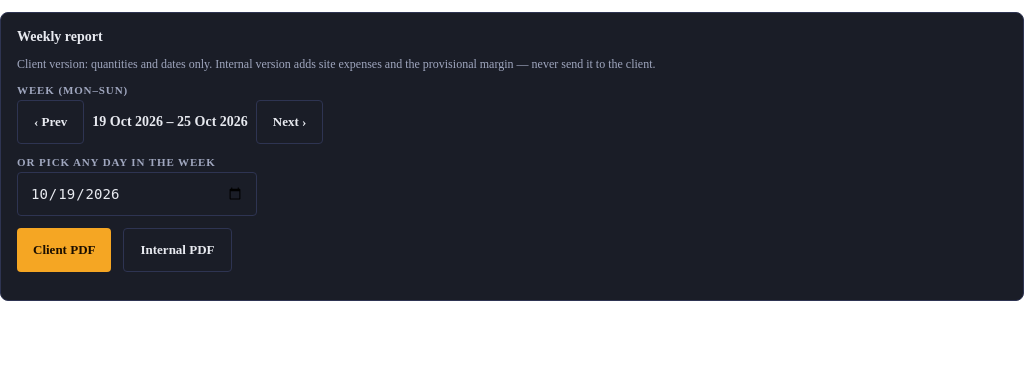
Test: WeeklyReportPanel › accountant is offered both versions and the internal fetch includes expenses
Expected: the button "Client PDF" is shown, [17, 228, 112, 272]
Click the button "Internal PDF": (178, 250) [124, 228, 232, 272]
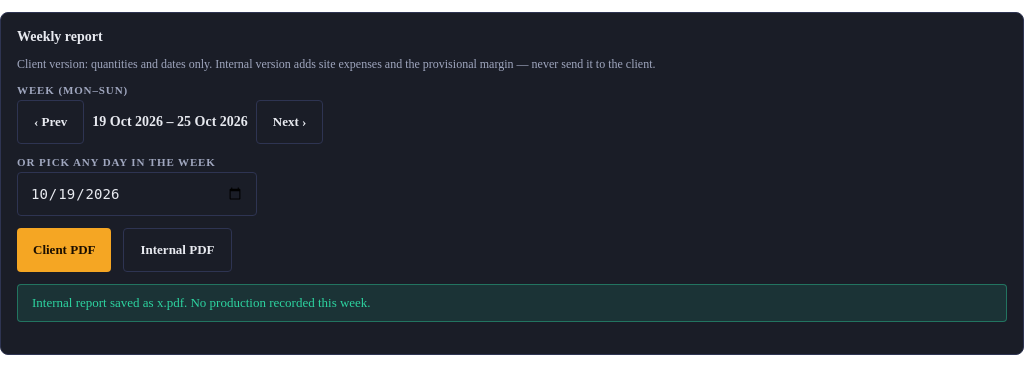
Expected: the message "Internal report saved as x.pdf. No production recorded this week." is shown, [17, 284, 1007, 322]
